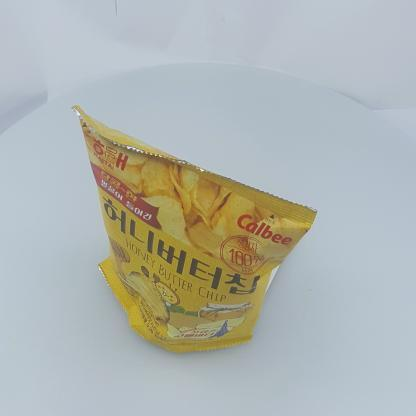Plastic Packaging: (66, 96, 330, 361)
